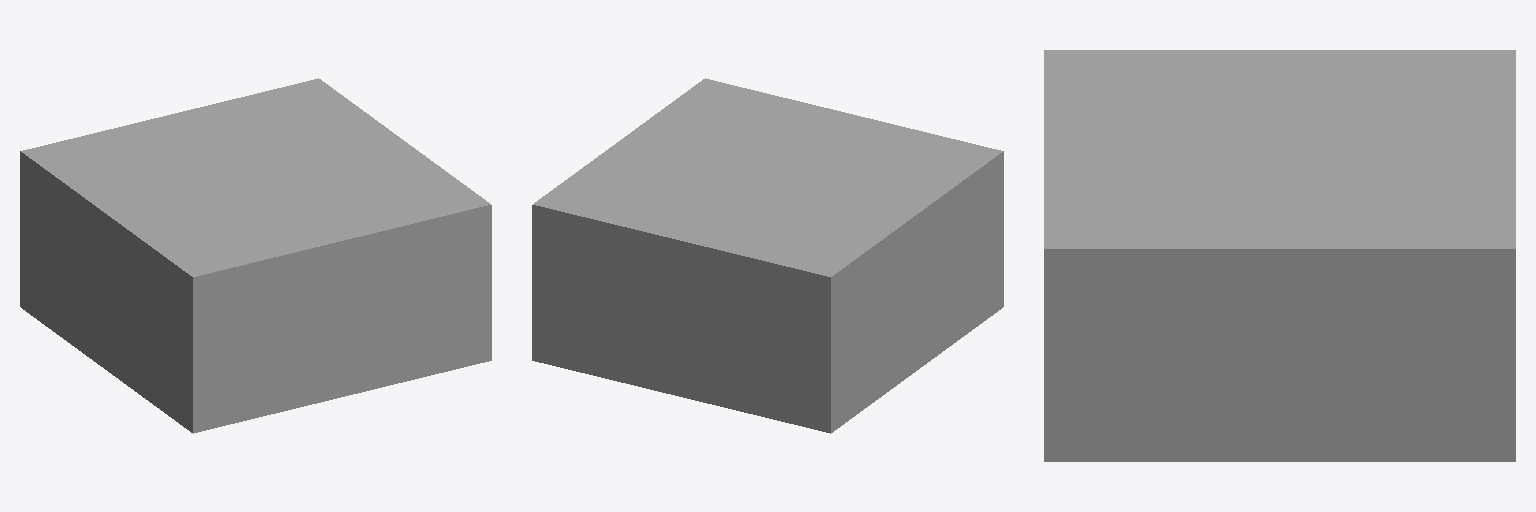
robot.urdf — ur3:
<?xml version="1.0" encoding="utf-8"?>
<!-- =================================================================================== -->
<!-- |    This document was autogenerated by xacro from ur3_joint_limited_robot.urdf.xacro | -->
<!-- |    EDITING THIS FILE BY HAND IS NOT RECOMMENDED                                 | -->
<!-- =================================================================================== -->
<robot name="ur3" xmlns:xacro="http://wiki.ros.org/xacro">
<!-- <mujoco>
    <compiler meshdir="collision" balanceinertia="true" discardvisual="false"/>
  </mujoco> -->
  <gazebo>es
    <plugin filename="libgazebo_ros_control.so" name="ros_control">
      <!--robotNamespace>/</robotNamespace-->
      <!--robotSimType>gazebo_ros_control/DefaultRobotHWSim</robotSimType-->
    </plugin>
    <!--
    <plugin name="gazebo_ros_power_monitor_controller" filename="libgazebo_ros_power_monitor.so">
      <alwaysOn>true</alwaysOn>
      <updateRate>1.0</updateRate>
      <timeout>5</timeout>
      <powerStateTopic>power_state</powerStateTopic>
      <powerStateRate>10.0</powerStateRate>
      <fullChargeCapacity>87.78</fullChargeCapacity>
      <dischargeRate>-474</dischargeRate>
      <chargeRate>525</chargeRate>
      <dischargeVoltage>15.52</dischargeVoltage>
      <chargeVoltage>16.41</chargeVoltage>
    </plugin>
-->
  </gazebo>
  <!--
  Author: [author]
-->
  <!-- measured from model -->
  <link name="ground_plane_box">
    <visual>
        <origin xyz="0 0 0" rpy="0 0 0"/>
        <geometry>
            <box size="1.0 1.0 0.5"/> 
        </geometry>
        <material name="Grey">
            <color rgba="0.7 0.7 0.7 1.0"/>
        </material>
    </visual>
    <collision>
        <origin xyz="0 0 0" rpy="0 0 0"/>
        <geometry>
            <box size="1.0 1.0 0.5"/> 
        </geometry>
    </collision>
</link>

<joint name="ground_plane_box" type="fixed">
    <parent link="world" />
    <child link="ground_plane_box" />
    <origin xyz="0 0 -0.25" rpy="0 0 0" />
</joint>
  <link name="base_link">
    <visual>
      <geometry>
        <mesh filename="visual/base.stl"/>
      </geometry>
      <material name="LightGrey">
        <color rgba="0.7 0.7 0.7 1.0"/>
      </material>
    </visual>
    <collision>
      <geometry>
        <mesh filename="collision/base.stl"/>
      </geometry>
    </collision>
    <inertial>
      <mass value="2.0"/>
      <origin rpy="0 0 0" xyz="0.0 0.0 0.0"/>
      <inertia ixx="0.0030531654454" ixy="0.0" ixz="0.0" iyy="0.0030531654454" iyz="0.0" izz="0.005625"/>
    </inertial>
  </link>
  <joint name="shoulder_pan_joint" type="revolute">
    <parent link="base_link"/>
    <child link="shoulder_link"/>
    <origin rpy="0.0 0.0 0.0" xyz="0.0 0.0 0.1519"/>
    <axis xyz="0 0 1"/>
    <limit effort="330.0" lower="-3.14159265359" upper="3.14159265359" velocity="2.16"/>
    <dynamics damping="0.0" friction="0.0"/>
  </joint>
  <link name="shoulder_link">
    <visual>
      <geometry>
        <mesh filename="visual/shoulder.stl"/>
      </geometry>
      <material name="LightGrey">
        <color rgba="0.7 0.7 0.7 1.0"/>
      </material>
    </visual>
    <collision>
      <geometry>
        <mesh filename="collision/shoulder.stl"/>
      </geometry>
    </collision>
    <inertial>
      <mass value="2.0"/>
      <origin rpy="0 0 0" xyz="0.0 0.0 0.0"/>
      <inertia ixx="0.0080931634294" ixy="0.0" ixz="0.0" iyy="0.0080931634294" iyz="0.0" izz="0.005625"/>
    </inertial>
  </link>
  <joint name="shoulder_lift_joint" type="revolute">
    <parent link="shoulder_link"/>
    <child link="upper_arm_link"/>
    <origin rpy="0.0 1.57079632679 0.0" xyz="0.0 0.1198 0.0"/>
    <axis xyz="0 1 0"/>
    <limit effort="330.0" lower="-3.14159265359" upper="3.14159265359" velocity="2.16"/>
    <dynamics damping="0.0" friction="0.0"/>
  </joint>
  <link name="upper_arm_link">
    <visual>
      <geometry>
        <mesh filename="visual/upperarm.stl"/>
      </geometry>
      <material name="LightGrey">
        <color rgba="0.7 0.7 0.7 1.0"/>
      </material>
    </visual>
    <collision>
      <geometry>
        <mesh filename="collision/upperarm.stl"/>
      </geometry>
    </collision>
    <inertial>
      <mass value="3.42"/>
      <origin rpy="0 0 0" xyz="0.0 0.0 0.121825"/>
      <inertia ixx="0.0217284832211" ixy="0.0" ixz="0.0" iyy="0.0217284832211" iyz="0.0" izz="0.00961875"/>
    </inertial>
  </link>
  <joint name="elbow_joint" type="revolute">
    <parent link="upper_arm_link"/>
    <child link="forearm_link"/>
    <origin rpy="0.0 0.0 0.0" xyz="0.0 -0.0925 0.24365"/>
    <axis xyz="0 1 0"/>
    <limit effort="150.0" lower="-3.14159265359" upper="3.14159265359" velocity="3.15"/>
    <dynamics damping="0.0" friction="0.0"/>
  </joint>
  <link name="forearm_link">
    <visual>
      <geometry>
        <mesh filename="visual/forearm.stl"/>
      </geometry>
      <material name="LightGrey">
        <color rgba="0.7 0.7 0.7 1.0"/>
      </material>
    </visual>
    <collision>
      <geometry>
        <mesh filename="collision/forearm.stl"/>
      </geometry>
    </collision>
    <inertial>
      <mass value="1.26"/>
      <origin rpy="0 0 0" xyz="0.0 0.0 0.106625"/>
      <inertia ixx="0.00654680644378" ixy="0.0" ixz="0.0" iyy="0.00654680644378" iyz="0.0" izz="0.00354375"/>
    </inertial>
  </link>
  <joint name="wrist_1_joint" type="revolute">
    <parent link="forearm_link"/>
    <child link="wrist_1_link"/>
    <origin rpy="0.0 1.57079632679 0.0" xyz="0.0 0.0 0.21325"/>
    <axis xyz="0 1 0"/>
    <limit effort="54.0" lower="-3.14159265359" upper="3.14159265359" velocity="3.2"/>
    <dynamics damping="0.0" friction="0.0"/>
  </joint>
  <link name="wrist_1_link">
    <visual>
      <geometry>
        <mesh filename="visual/wrist1.stl"/>
      </geometry>
      <material name="LightGrey">
        <color rgba="0.7 0.7 0.7 1.0"/>
      </material>
    </visual>
    <collision>
      <geometry>
        <mesh filename="collision/wrist1.stl"/>
      </geometry>
    </collision>
    <inertial>
      <mass value="0.8"/>
      <origin rpy="0 0 0" xyz="0.0 0.0 0.0"/>
      <inertia ixx="0.002084999166" ixy="0.0" ixz="0.0" iyy="0.002084999166" iyz="0.0" izz="0.00225"/>
    </inertial>
  </link>
  <joint name="wrist_2_joint" type="revolute">
    <parent link="wrist_1_link"/>
    <child link="wrist_2_link"/>
    <origin rpy="0.0 0.0 0.0" xyz="0.0 0.08505 0.0"/>
    <axis xyz="0 0 1"/>
    <limit effort="54.0" lower="-3.14159265359" upper="3.14159265359" velocity="3.2"/>
    <dynamics damping="0.0" friction="0.0"/>
  </joint>
  <link name="wrist_2_link">
    <visual>
      <geometry>
        <mesh filename="visual/wrist2.stl"/>
      </geometry>
      <material name="LightGrey">
        <color rgba="0.7 0.7 0.7 1.0"/>
      </material>
    </visual>
    <collision>
      <geometry>
        <mesh filename="collision/wrist2.stl"/>
      </geometry>
    </collision>
    <inertial>
      <mass value="0.8"/>
      <origin rpy="0 0 0" xyz="0.0 0.0 0.0"/>
      <inertia ixx="0.002084999166" ixy="0.0" ixz="0.0" iyy="0.002084999166" iyz="0.0" izz="0.00225"/>
    </inertial>
  </link>
  <joint name="wrist_3_joint" type="revolute">
    <parent link="wrist_2_link"/>
    <child link="wrist_3_link"/>
    <origin rpy="0.0 0.0 0.0" xyz="0.0 0.0 0.08535"/>
    <axis xyz="0 1 0"/>
    <limit effort="54.0" lower="-3.14159265359" upper="3.14159265359" velocity="3.2"/>
    <dynamics damping="0.0" friction="0.0"/>
  </joint>
  <link name="wrist_3_link">
    <visual>
      <geometry>
        <mesh filename="visual/wrist3.stl"/>
      </geometry>
      <material name="LightGrey">
        <color rgba="0.7 0.7 0.7 1.0"/>
      </material>
    </visual>
    <collision>
      <geometry>
        <mesh filename="collision/wrist3.stl"/>
      </geometry>
    </collision>
    <inertial>
      <mass value="0.35"/>
      <origin rpy="0 0 0" xyz="0.0 0.0 0.0"/>
      <inertia ixx="0.000912187135125" ixy="0.0" ixz="0.0" iyy="0.000912187135125" iyz="0.0" izz="0.000984375"/>
    </inertial>
  </link>
  <!-- <joint name="ee_fixed_joint" type="fixed">
    <parent link="wrist_3_link"/>
    <child link="ee_link"/>
    <origin rpy="0.0 0.0 1.57079632679" xyz="0.0 0.0819 0.0"/>
  </joint>
  <link name="ee_link">
    <collision>
      <geometry>
        <box size="0.01 0.01 0.01"/>
      </geometry>
      <origin rpy="0 0 0" xyz="-0.01 0 0"/>
    </collision>
    <inertial>
      <mass value="0.0"/>
      <origin rpy="0 0 0" xyz="0 0 0"/>
      <inertia ixx="0.0" ixy="0.0" ixz="0.0" iyy="0.0" iyz="0.0" izz="0.0"/>
    </inertial>
  </link> -->
  <transmission name="shoulder_pan_trans">
    <type>transmission_interface/SimpleTransmission</type>
    <joint name="shoulder_pan_joint">
      <hardwareInterface>hardware_interface/PositionJointInterface</hardwareInterface>
    </joint>
    <actuator name="shoulder_pan_motor">
      <mechanicalReduction>1</mechanicalReduction>
    </actuator>
  </transmission>
  <transmission name="shoulder_lift_trans">
    <type>transmission_interface/SimpleTransmission</type>
    <joint name="shoulder_lift_joint">
      <hardwareInterface>hardware_interface/PositionJointInterface</hardwareInterface>
    </joint>
    <actuator name="shoulder_lift_motor">
      <mechanicalReduction>1</mechanicalReduction>
    </actuator>
  </transmission>
  <transmission name="elbow_trans">
    <type>transmission_interface/SimpleTransmission</type>
    <joint name="elbow_joint">
      <hardwareInterface>hardware_interface/PositionJointInterface</hardwareInterface>
    </joint>
    <actuator name="elbow_motor">
      <mechanicalReduction>1</mechanicalReduction>
    </actuator>
  </transmission>
  <transmission name="wrist_1_trans">
    <type>transmission_interface/SimpleTransmission</type>
    <joint name="wrist_1_joint">
      <hardwareInterface>hardware_interface/PositionJointInterface</hardwareInterface>
    </joint>
    <actuator name="wrist_1_motor">
      <mechanicalReduction>1</mechanicalReduction>
    </actuator>
  </transmission>
  <transmission name="wrist_2_trans">
    <type>transmission_interface/SimpleTransmission</type>
    <joint name="wrist_2_joint">
      <hardwareInterface>hardware_interface/PositionJointInterface</hardwareInterface>
    </joint>
    <actuator name="wrist_2_motor">
      <mechanicalReduction>1</mechanicalReduction>
    </actuator>
  </transmission>
  <transmission name="wrist_3_trans">
    <type>transmission_interface/SimpleTransmission</type>
    <joint name="wrist_3_joint">
      <hardwareInterface>hardware_interface/PositionJointInterface</hardwareInterface>
    </joint>
    <actuator name="wrist_3_motor">
      <mechanicalReduction>1</mechanicalReduction>
    </actuator>
  </transmission>
  <gazebo reference="shoulder_link">
    <selfCollide>true</selfCollide>
  </gazebo>
  <gazebo reference="upper_arm_link">
    <selfCollide>true</selfCollide>
  </gazebo>
  <gazebo reference="forearm_link">
    <selfCollide>true</selfCollide>
  </gazebo>
  <gazebo reference="wrist_1_link">
    <selfCollide>true</selfCollide>
  </gazebo>
  <gazebo reference="wrist_3_link">
    <selfCollide>true</selfCollide>
  </gazebo>
  <gazebo reference="wrist_2_link">
    <selfCollide>true</selfCollide>
  </gazebo>
  <gazebo reference="ee_link">
    <selfCollide>true</selfCollide>
  </gazebo>
  <!-- ROS base_link to UR 'Base' Coordinates transform -->
  <link name="base">
    <inertial>
      <mass value="0.0"/>
      <origin rpy="0 0 0" xyz="0 0 0"/>
      <inertia ixx="0.0" ixy="0.0" ixz="0.0" iyy="0.0" iyz="0.0" izz="0.0"/>
    </inertial>
  </link>
  <joint name="base_link-base_fixed_joint" type="fixed">
    <!-- NOTE: this rotation is only needed as long as base_link itself is
                 not corrected wrt the real robot (ie: rotated over 180
                 degrees)
      -->
    <origin rpy="0 0 -3.14159265359" xyz="0 0 0"/>
    <parent link="base_link"/>
    <child link="base"/>
  </joint>
  <!-- Frame coincident with all-zeros TCP on UR controller -->
  <link name="tool0">
    <inertial>
      <mass value="0.0"/>
      <origin rpy="0 0 0" xyz="0 0 0"/>
      <inertia ixx="0.0" ixy="0.0" ixz="0.0" iyy="0.0" iyz="0.0" izz="0.0"/>
    </inertial>
    <visual>
      <geometry>
        <mesh filename="collision/grounded_peg.stl" scale="0.001 0.001 0.001"/>
      </geometry>
      <origin rpy="0 0 0" xyz="0 0 0"/>
    </visual>
    <collision>
      <geometry>
        <mesh filename="collision/grounded_peg.stl" scale="0.001 0.001 0.001"/>
      </geometry>
      <origin rpy="0 0 0" xyz="0 0 0"/>
    </collision>
  </link>

  <joint name="wrist_3_link-tool0_fixed_joint" type="fixed">
    <origin rpy="-1.57079632679 0 0" xyz="0 0.0819 0"/>
    <parent link="wrist_3_link"/>
    <child link="tool0"/>
  </joint>
  <link name="world"/>
  <joint name="world_joint" type="fixed">
    <parent link="ground_plane_box"/>
    <child link="base_link"/>
    <origin rpy="0.0 0.0 0.0" xyz="0.0 0.0 0.0"/>
  </joint>
</robot>

--- Render facts (derived) ---
Views: 3 orthographic renders of the robot side by side, from view 1: azimuth 30°, elevation 25°; view 2: azimuth 150°, elevation 25°; view 3: azimuth 270°, elevation 25°.
Robot: ur3 — 11 links, 10 joints (6 revolute, 4 fixed); root link world; default pose: all joints at 0.
Visible links, largest first — view 1: ground_plane_box; view 2: ground_plane_box; view 3: ground_plane_box.
Boxes of the visible links, <box> form: ground_plane_box: <box>20,78,491,433</box>; ground_plane_box: <box>532,78,1003,433</box>; ground_plane_box: <box>1044,50,1515,461</box>.
Bounding box of the posed robot: 1 × 1 × 0.5 m (x, y, z).
Meshes: 8 distinct files referenced, 1 mesh visuals loaded (1 binary STL); not drawn: 7 (reference not matched to a file when rendering).